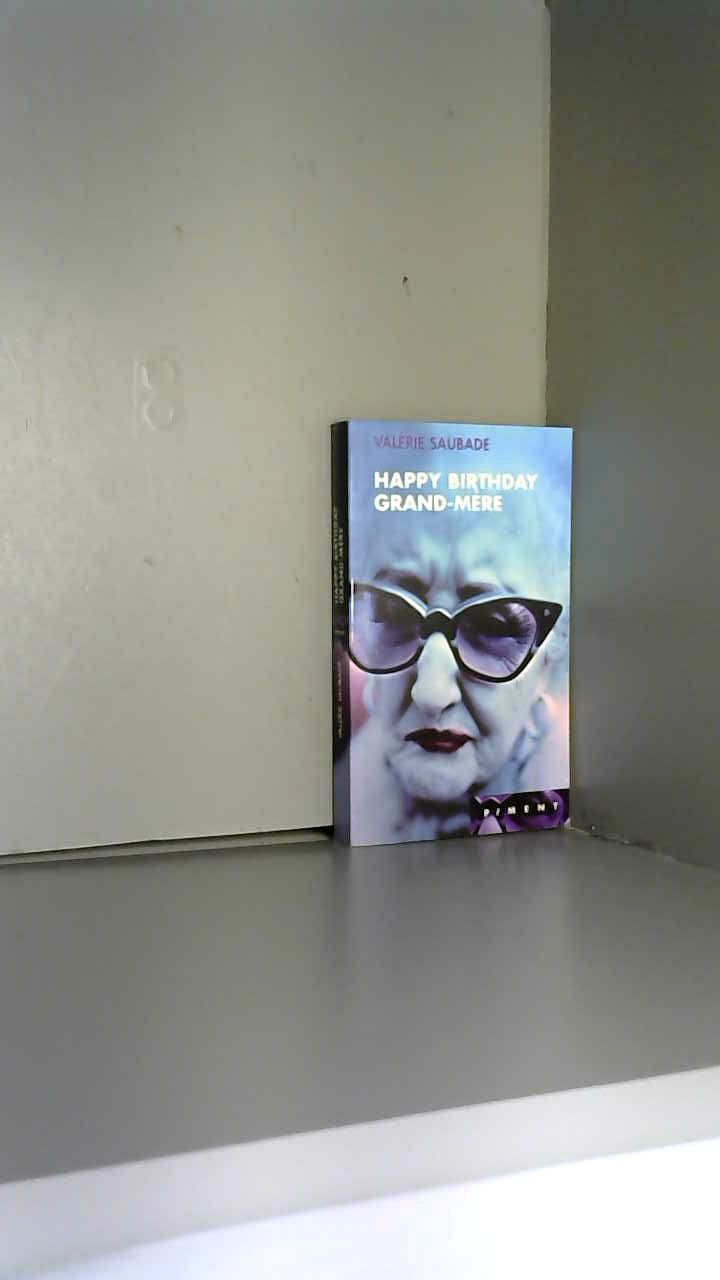book: (310, 404, 589, 870)
